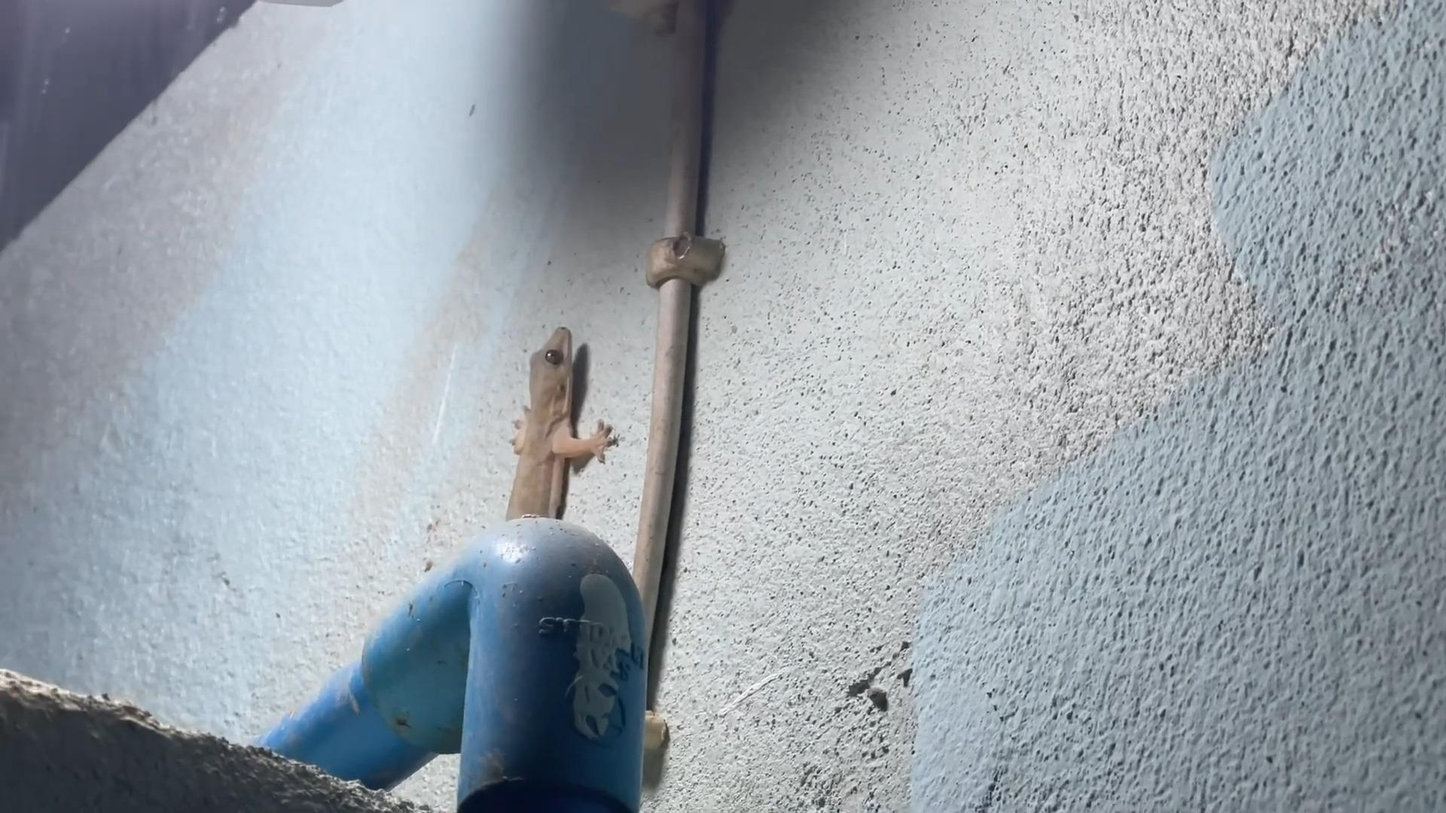lizard: (479, 315, 616, 500)
